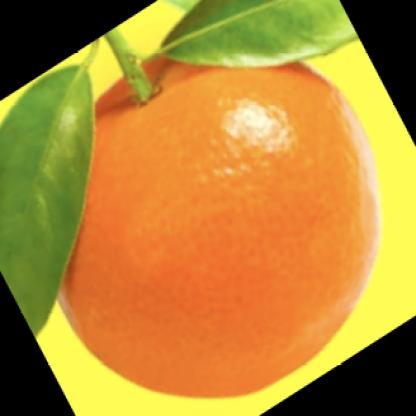fresh: (51, 45, 382, 397)
